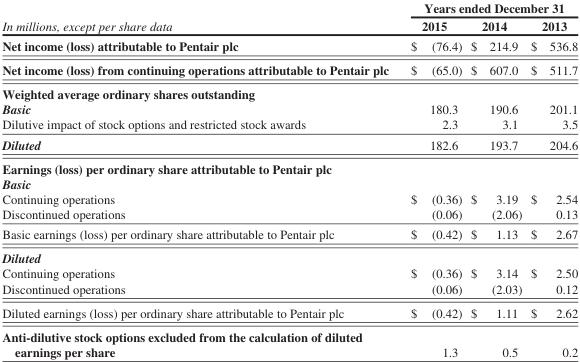table: (1, 0, 577, 358)
table column: (1, 0, 399, 358), (399, 0, 465, 358), (465, 0, 525, 358), (525, 0, 577, 358)
table column header: (1, 0, 577, 35)
table projected row header: (1, 81, 577, 101), (1, 245, 577, 265), (1, 156, 577, 175), (1, 175, 577, 191)
table row: (1, 324, 577, 358), (1, 57, 577, 81), (1, 300, 577, 324), (1, 35, 577, 57), (1, 134, 577, 156), (1, 223, 577, 245), (1, 81, 577, 101), (1, 245, 577, 265), (1, 280, 577, 300), (1, 16, 577, 35), (1, 156, 577, 175), (1, 116, 577, 134), (1, 206, 577, 223), (1, 0, 577, 16), (1, 175, 577, 191), (1, 101, 577, 116), (1, 191, 577, 206), (1, 265, 577, 280)
table spanning cell: (1, 0, 399, 35), (399, 0, 577, 16)
